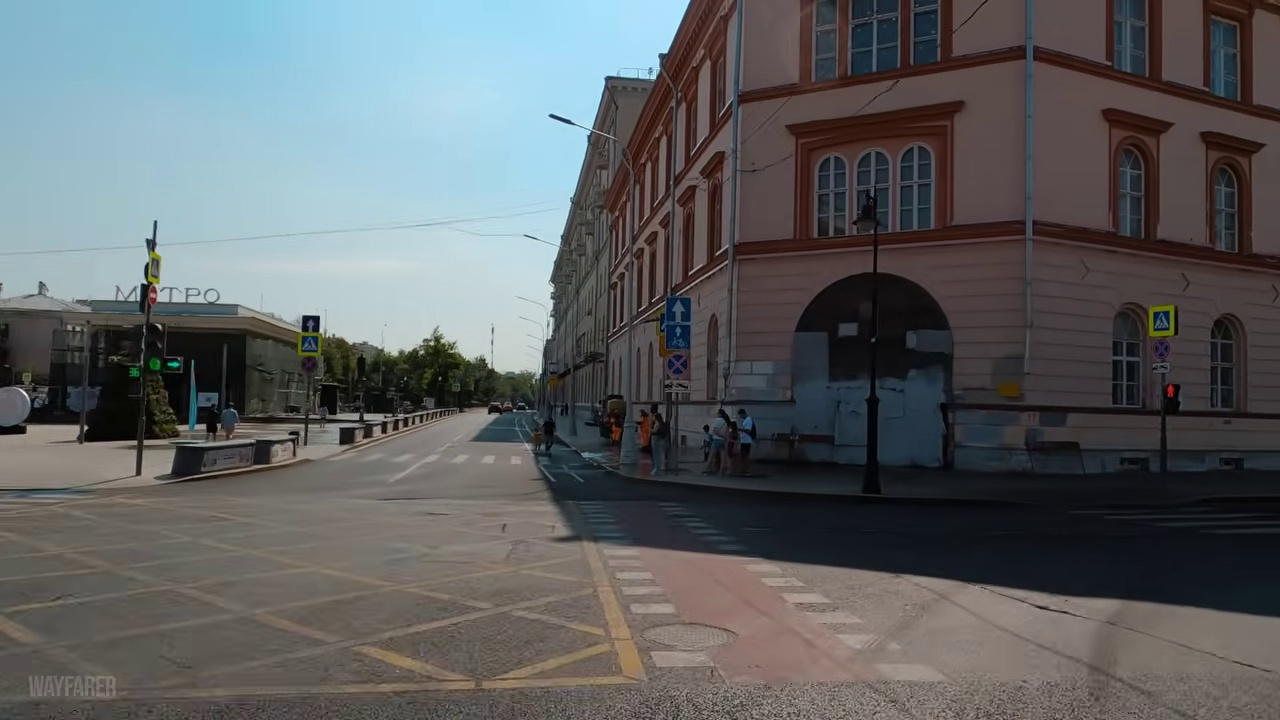apagada: (542, 105, 572, 130)
